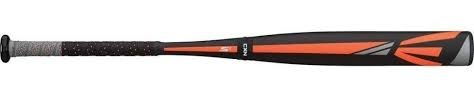bat: (1, 29, 474, 68)
